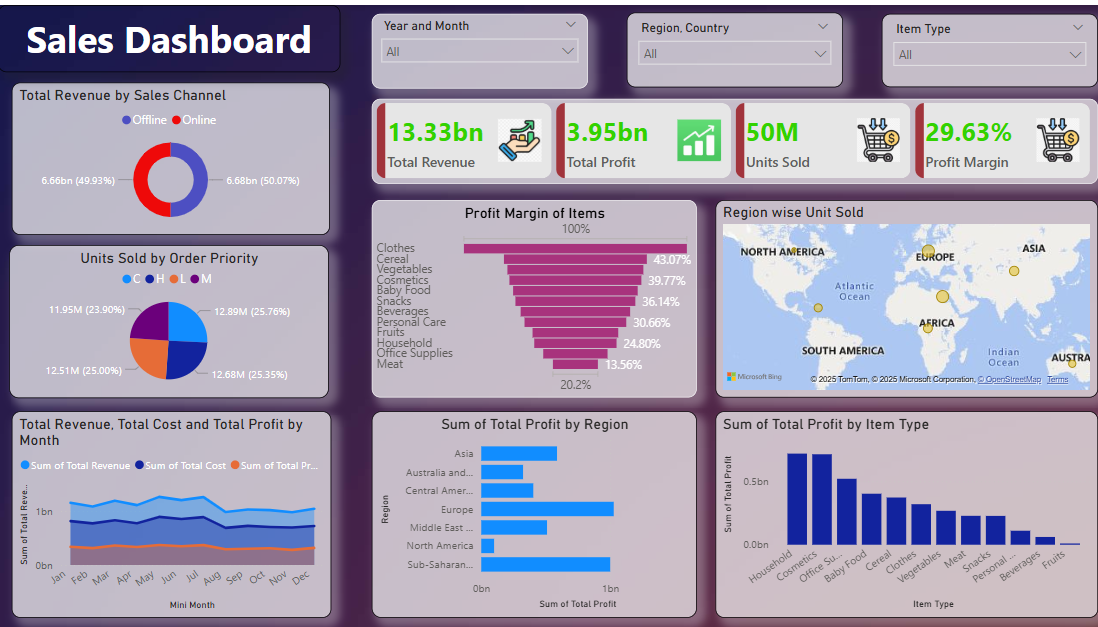

Layout of this report page (visuals, bound fields, positions):
{"tool":"powerbi","page":{"name":"Main Dashboard","canvas":[1280,720],"ordinal":0},"visuals":[{"type":"donutChart","title":"Total Revenue by Sales Channel","fields":{"Category":["Sales Records 1.Sales Channel"],"Y":["Sum(Sales Records 1.Total Revenue)"]},"box":[15.7,90,367.1,175.7],"z":0},{"type":"textbox","box":[0,0,395.3,77.9],"z":1000},{"type":"slicer","title":"Year and Month","fields":{"Values":["Sales Records 1.Year","Sales Records 1.Mini Month"]},"box":[431.4,10.1,249.6,86.6],"z":2000},{"type":"slicer","fields":{"Values":["Sales Records 1.Region","Sales Records 1.Country"]},"box":[725.7,8.7,249.6,86.6],"z":3000},{"type":"slicer","fields":{"Values":["Sales Records 1.Item Type"]},"box":[1020,10.1,249.6,85.1],"z":4000},{"type":"pieChart","title":"Units Sold by Order Priority","fields":{"Category":["Sales Records 1.Order Priority"],"Y":["Sum(Sales Records 1.Units Sold)"]},"box":[12.9,277.1,368.6,177.1],"z":5000},{"type":"areaChart","title":"Total Revenue, Total Cost and Total Profit by Month","fields":{"Category":["Sales Records 1.Mini Month"],"Y":["Sum(Sales Records 1.Total Revenue)","Sum(Sales Records 1.Total Cost)","Sum(Sales Records 1.Total Profit)"]},"box":[15.7,468.6,368.6,238.6],"z":6000},{"type":"cardVisual","fields":{"Data":["Sum(Sales Records 1.Total Revenue)","Sum(Sales Records 1.Total Profit)","Sum(Sales Records 1.Units Sold)","Sales Records 1.profit margin"]},"box":[431.4,108.2,838.2,98.1],"z":7000},{"type":"map","title":"Region wise Unit Sold","fields":{"Category":["Sales Records 1.Region"],"Size":["Sum(Sales Records 1.Units Sold)"]},"box":[828.1,225.1,441.5,228],"z":8000},{"type":"lineClusteredColumnComboChart","fields":{"Category":["Sales Records 1.Item Type"],"Y":["Sum(Sales Records 1.Total Profit)"]},"box":[828.1,468.9,441.5,238.1],"z":9000},{"type":"funnel","title":"Profit Margin of Items","fields":{"Category":["Sales Records 1.Item Type"],"Y":["Sales Records 1.profit margin"]},"box":[431.4,225.1,375.1,228],"z":10000},{"type":"barChart","fields":{"Category":["Sales Records 1.Region"],"Y":["Sum(Sales Records 1.Total Profit)"]},"box":[431.4,468.9,375.1,238.1],"z":11000}]}

Visuals, with their boxes in screenshot pixels (x1, y1, x2, y2), scaled from the page's 1280x720 canvas onto the 1098x627 screenshot:
"Total Revenue by Sales Channel" donutChart: x1=13 y1=78 x2=328 y2=231
textbox: x1=0 y1=0 x2=339 y2=68
"Year and Month" slicer: x1=370 y1=9 x2=584 y2=84
slicer - Sales Records 1.Region x Sales Records 1.Country: x1=623 y1=8 x2=837 y2=83
slicer - Sales Records 1.Item Type: x1=875 y1=9 x2=1089 y2=83
"Units Sold by Order Priority" pieChart: x1=11 y1=241 x2=327 y2=396
"Total Revenue, Total Cost and Total Profit by Month" areaChart: x1=13 y1=408 x2=330 y2=616
cardVisual - Sum(Sales Records 1.Total Revenue) x Sum(Sales Records 1.Total Profit): x1=370 y1=94 x2=1089 y2=180
"Region wise Unit Sold" map: x1=710 y1=196 x2=1089 y2=395
lineClusteredColumnComboChart - Sales Records 1.Item Type x Sum(Sales Records 1.Total Profit): x1=710 y1=408 x2=1089 y2=616
"Profit Margin of Items" funnel: x1=370 y1=196 x2=692 y2=395
barChart - Sales Records 1.Region x Sum(Sales Records 1.Total Profit): x1=370 y1=408 x2=692 y2=616
